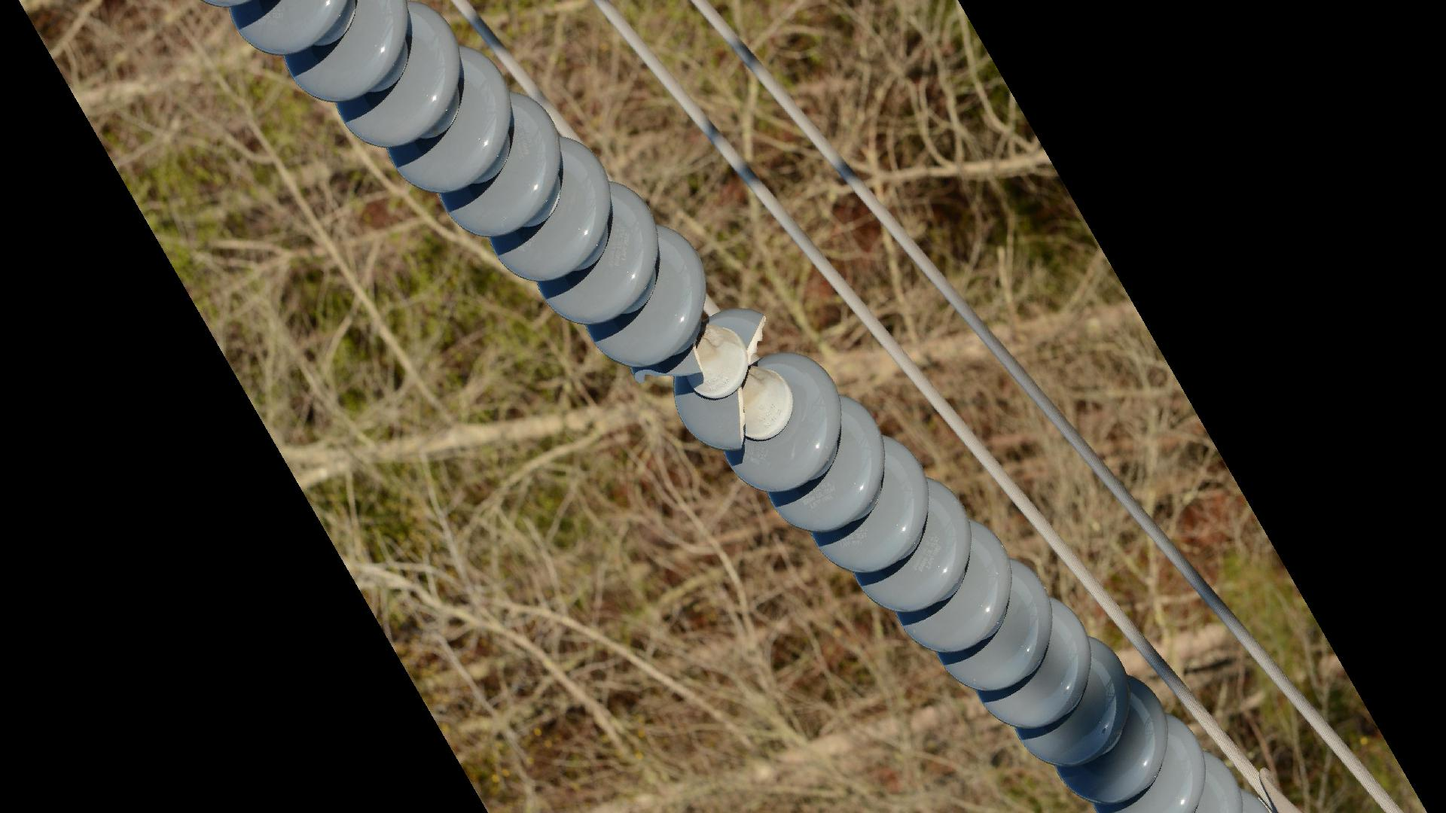insulator: (217, 1, 1274, 813)
insulator_breakage: (728, 308, 774, 457), (623, 334, 712, 395)
